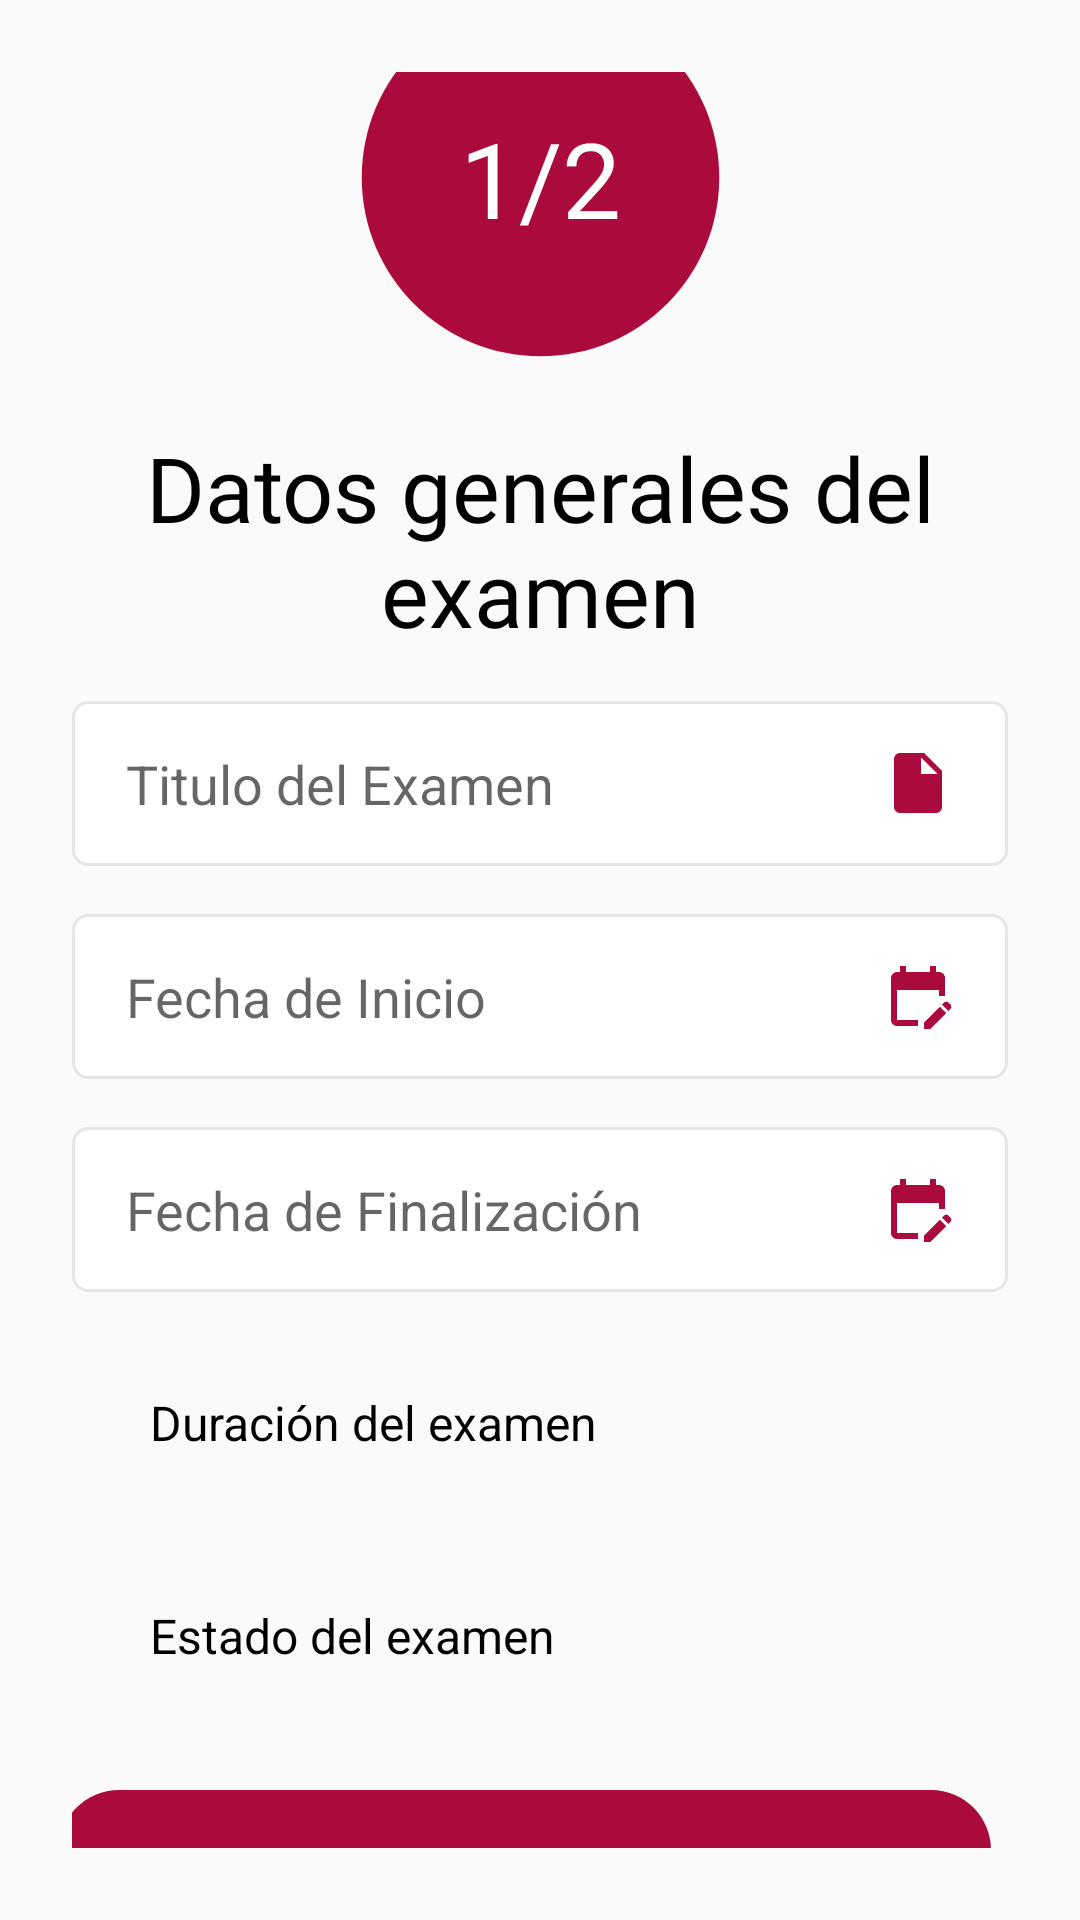

Locate icon controls on the screen. Image size 1080*1920, boxes as detection(x1, y1, x2, y2).
circle: detection(361, 72, 720, 357)
